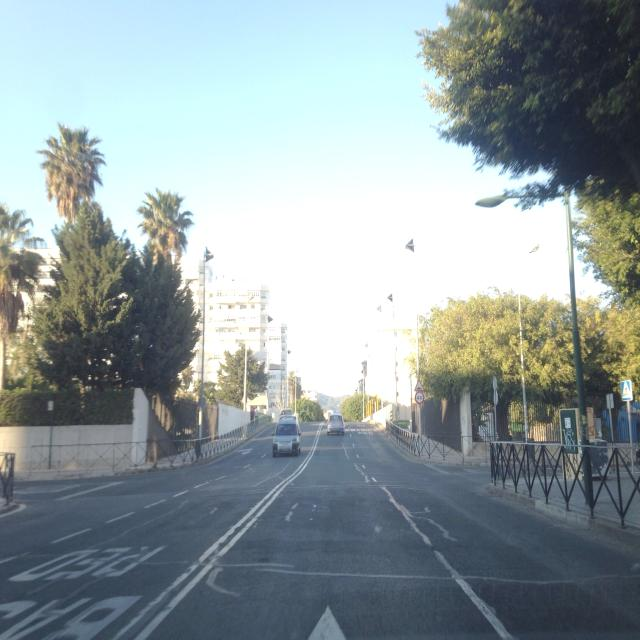car: (271, 414, 302, 458), (326, 412, 346, 437)
